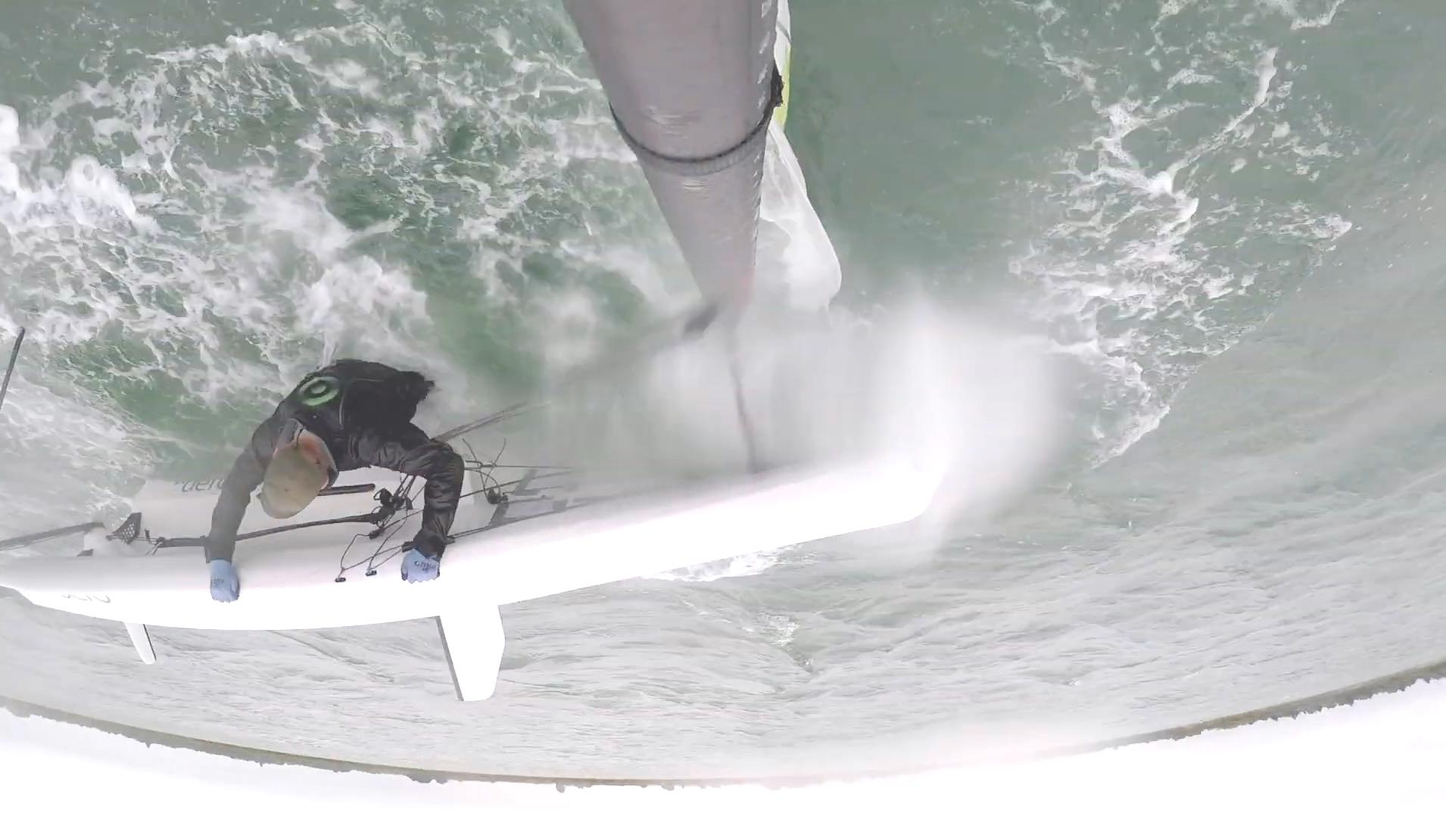boat: (0, 0, 936, 699)
land: (0, 700, 741, 786), (1042, 660, 1446, 758)
person: (205, 360, 464, 604)
sea: (0, 0, 1446, 783)
sky: (0, 688, 1446, 813)
